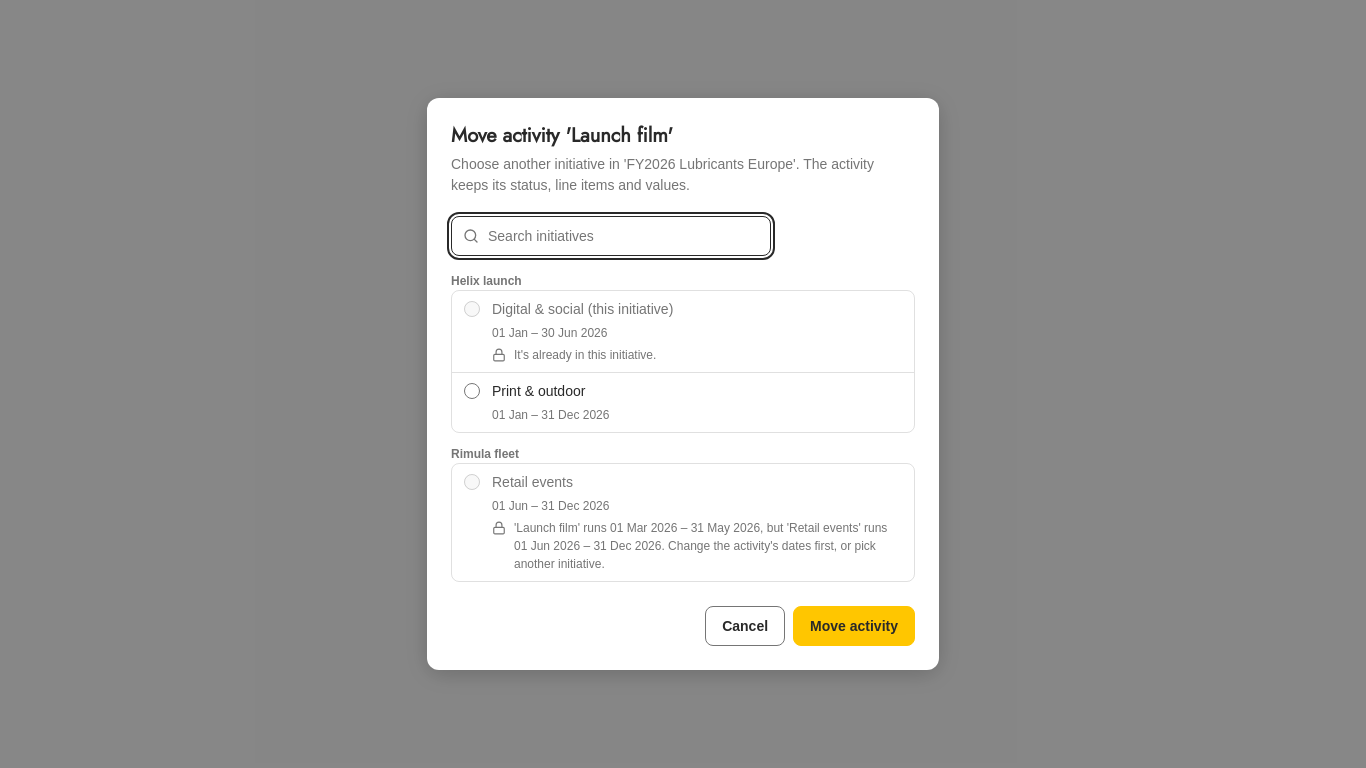
Test: MoveActivityDialog (feature 006, US5#1, FR-029) › moves the activity with its version and says so (US5#1)
Click the button "Move activity".
click(854, 626)  # box x1=793 y1=606 x2=915 y2=646
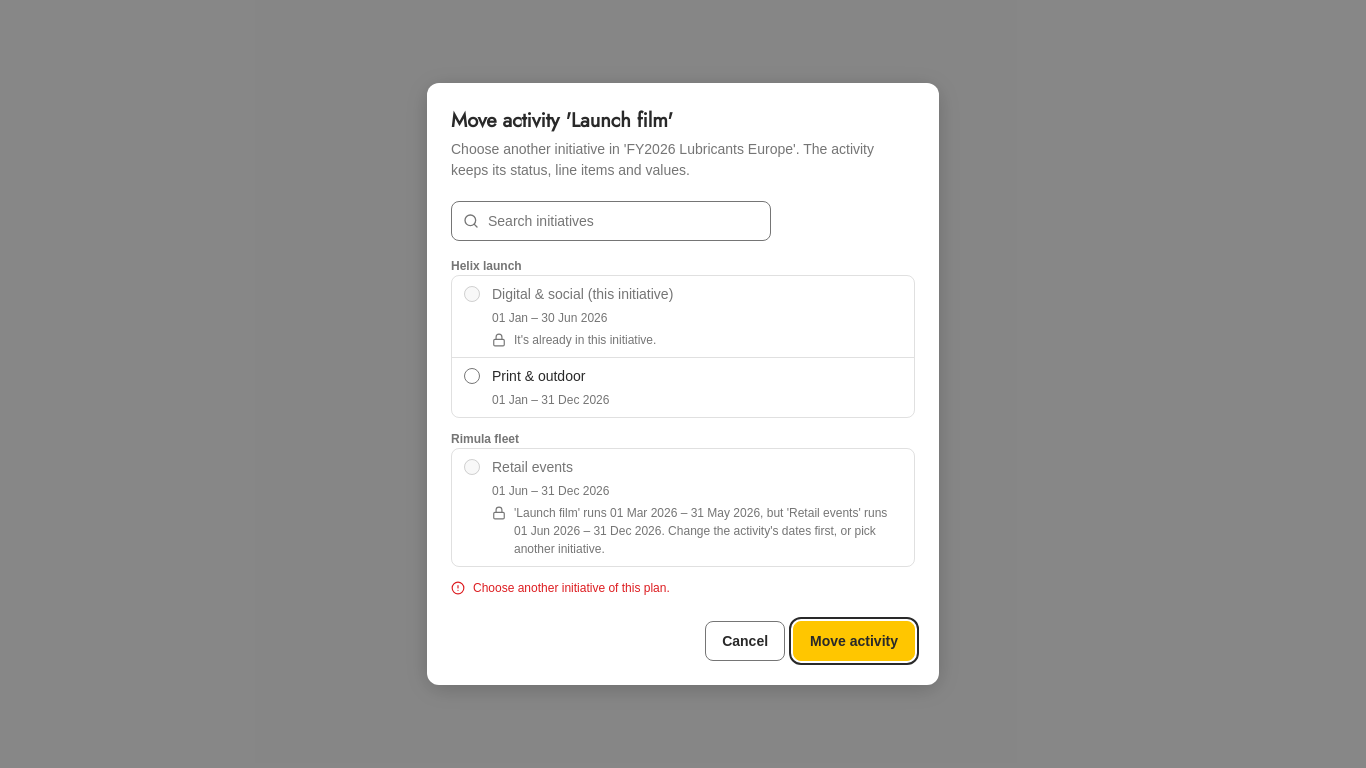
Now the text "Choose another initiative of this plan." is shown, box x1=451 y1=581 x2=670 y2=595
Click the radio button labelled "Print & outdoor".
click(472, 376)  # box x1=464 y1=368 x2=480 y2=384
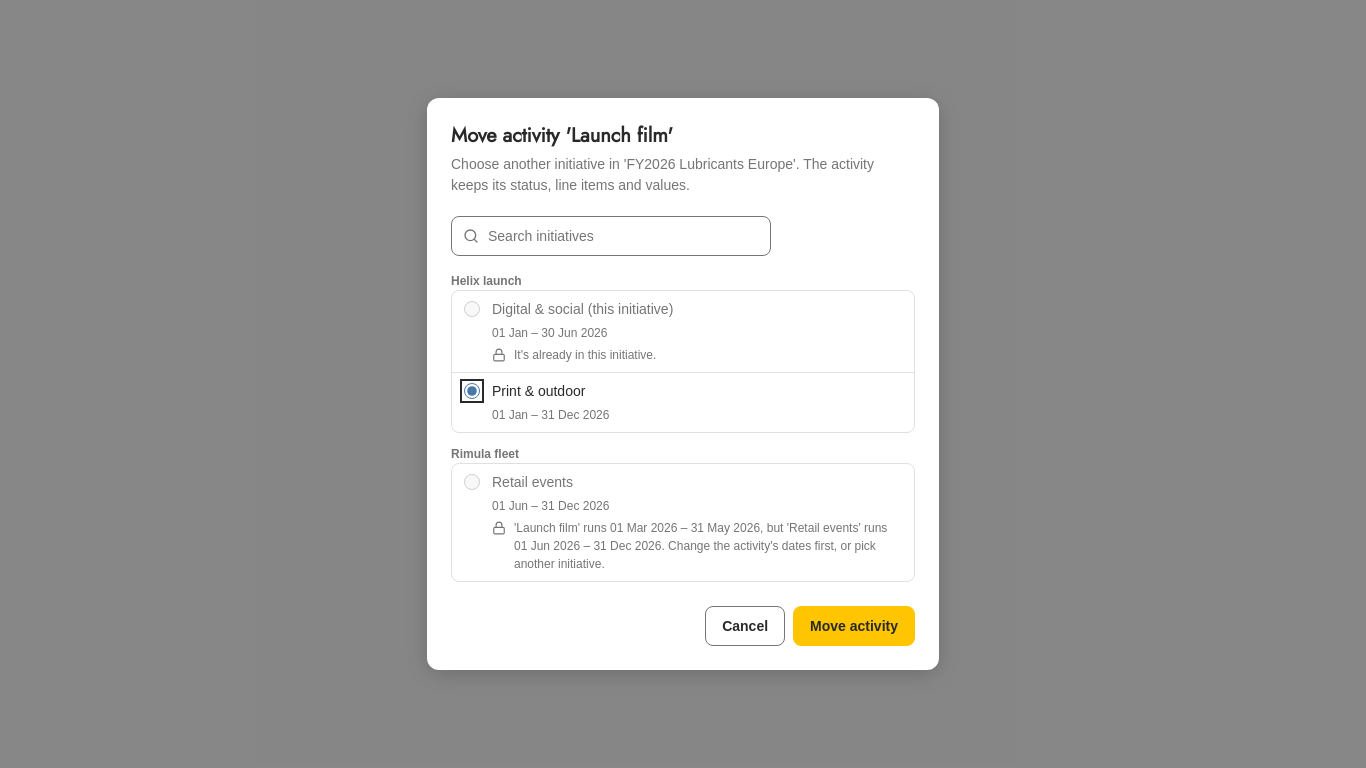
Now the text "Choose another initiative of this plan." is gone
Click the button "Move activity".
click(854, 626)  # box x1=793 y1=606 x2=915 y2=646
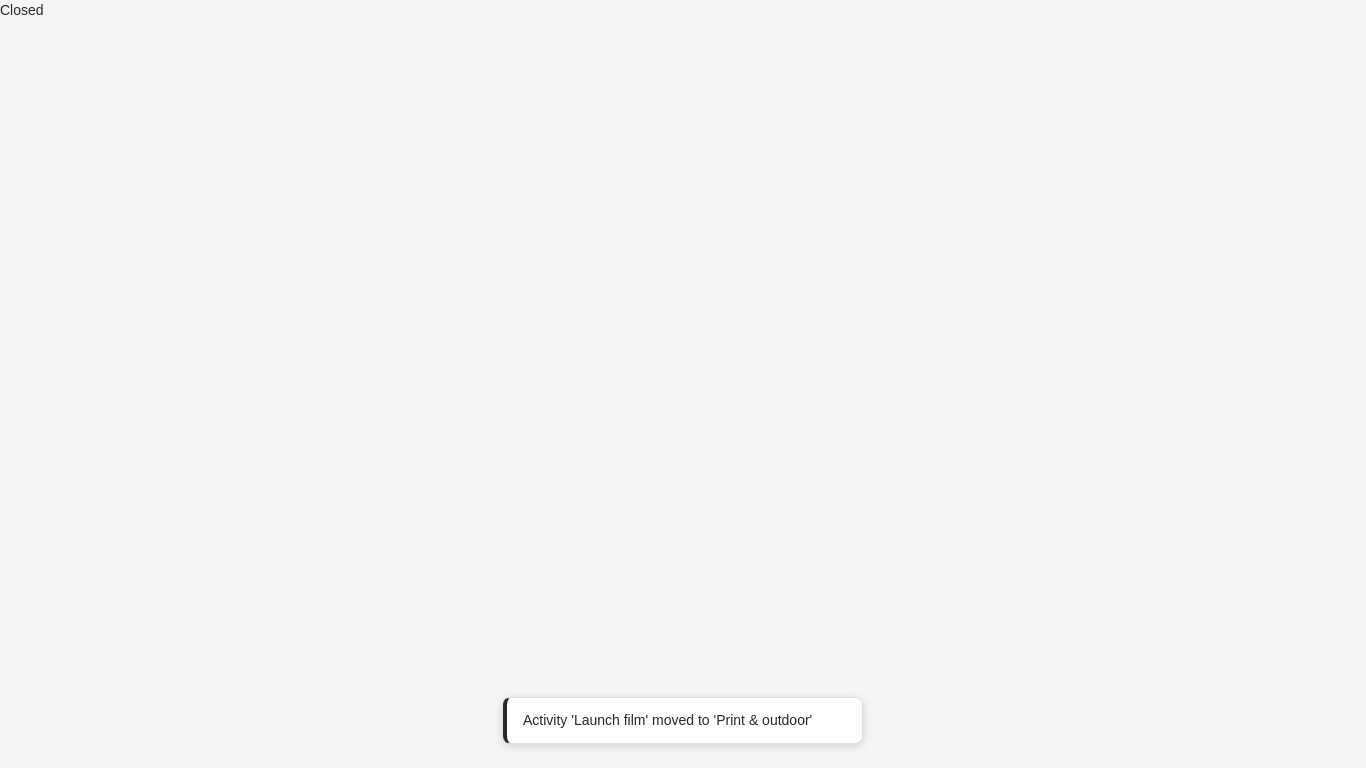
Now the text "Closed" is shown, box x1=0 y1=2 x2=44 y2=18
